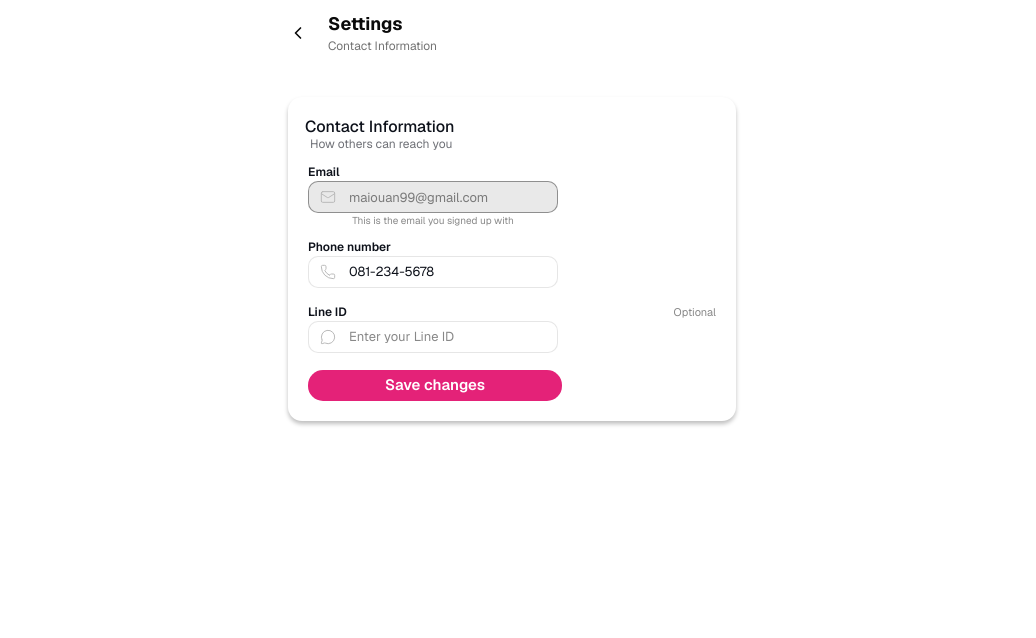
ContactSettings › saves digits only and shows the success banner
This screenshot has width=1036, height=638.
Replace the text in the field labelled "Phone number" with "088-888-8989" at (433,272), box [308,256,558,288]
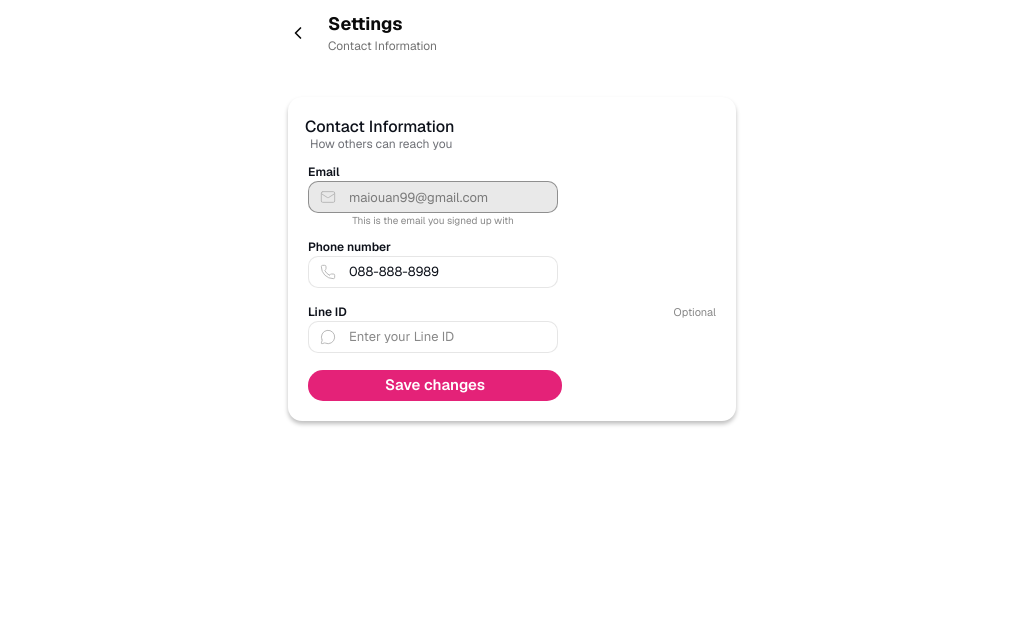
Type " mai.line " into the field labelled "Line ID" at (433,337), box [308,321,558,353]
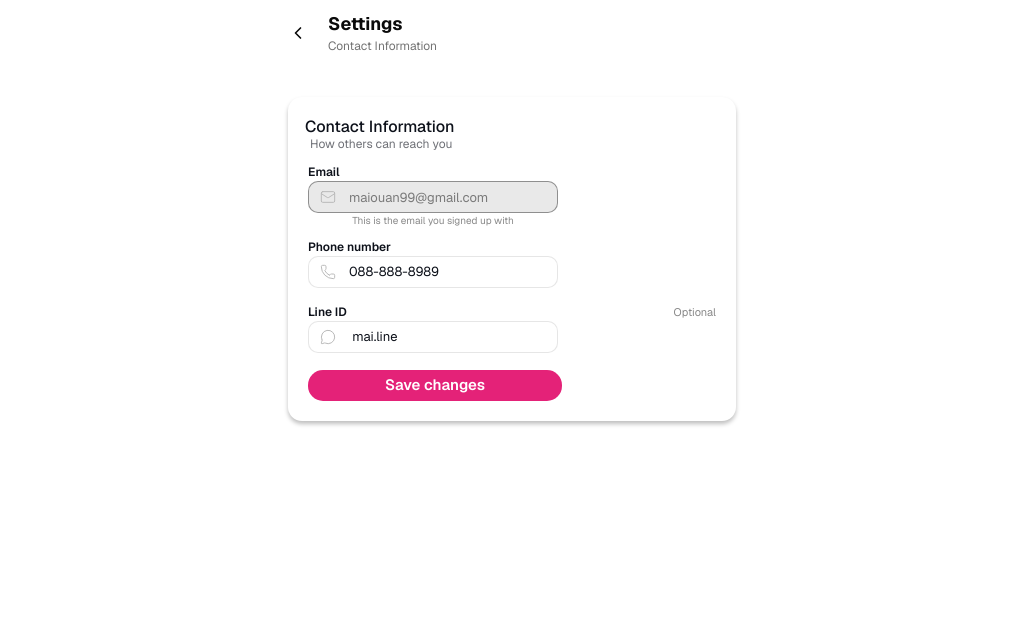
Click the button "Save changes" at (435,385), box [308,370,562,401]
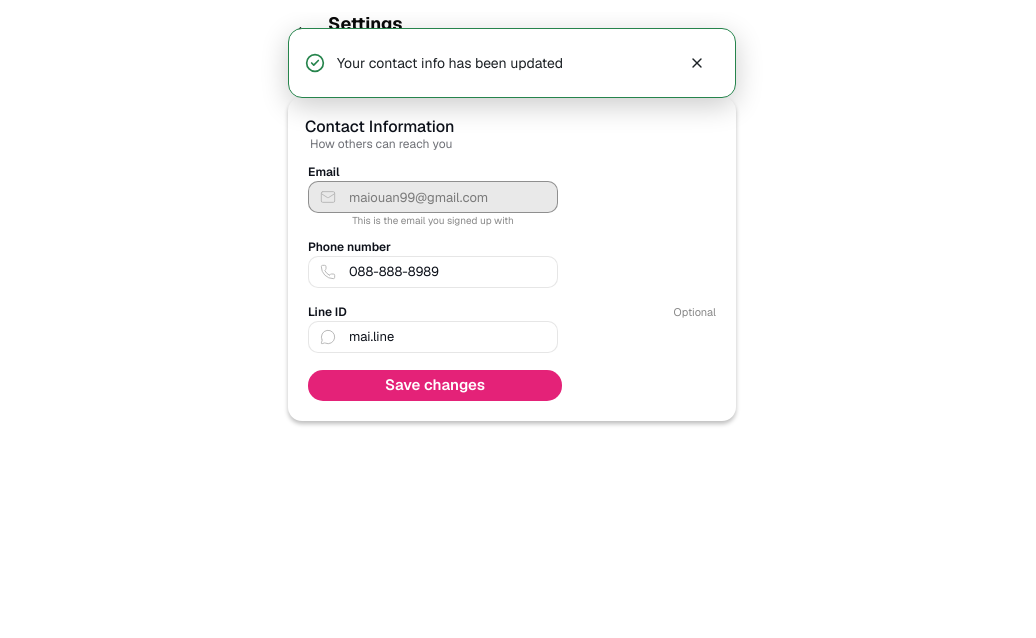
Result: the message reads "Your contact info has been updated" at [337,54,563,72]
